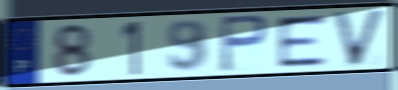1: (121, 19, 142, 77)
8: (50, 22, 95, 79)
9: (165, 17, 210, 74)
E: (274, 12, 330, 70)
P: (218, 13, 271, 74)
V: (330, 7, 389, 69)
